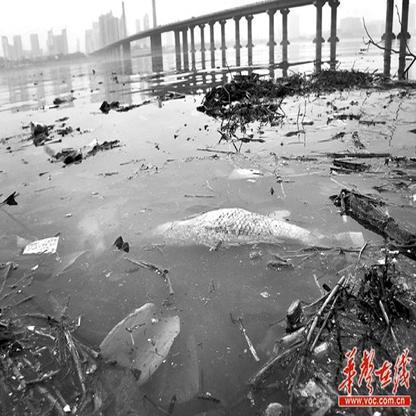deceased fish: (146, 205, 327, 254)
